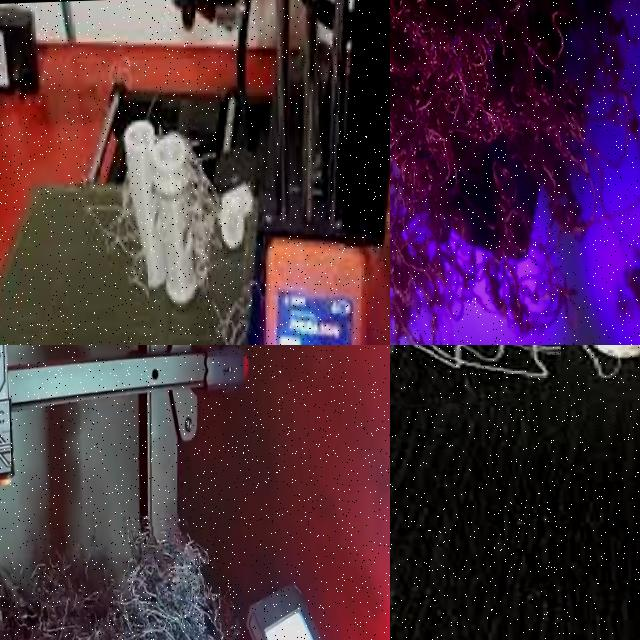spaghetti: (390, 0, 640, 345), (0, 507, 242, 640), (390, 345, 562, 407), (82, 182, 149, 330), (206, 213, 249, 345)
